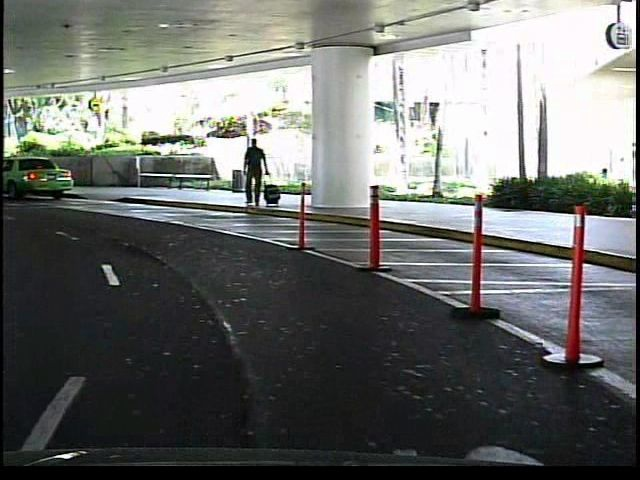person: (238, 134, 271, 210)
